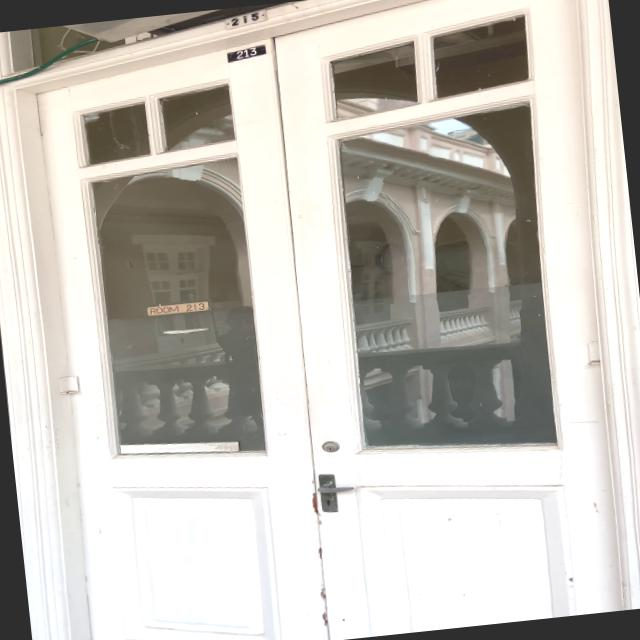room213: (224, 41, 271, 64)
room213Window: (141, 295, 217, 320)
